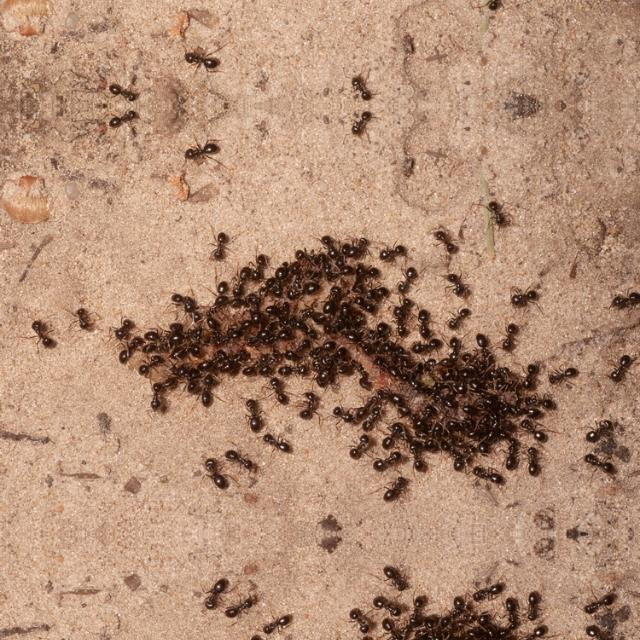Lasius: (176, 130, 236, 168), (176, 42, 236, 80), (478, 190, 526, 232), (238, 388, 276, 432), (28, 310, 64, 356), (492, 313, 532, 352), (196, 455, 232, 497), (196, 569, 232, 611), (368, 229, 412, 263), (602, 347, 638, 388), (428, 219, 464, 255), (502, 277, 548, 305), (467, 328, 501, 362), (344, 104, 376, 140), (603, 282, 639, 314), (579, 410, 615, 442), (344, 70, 376, 106), (257, 429, 299, 455), (575, 444, 617, 470), (257, 611, 299, 637), (575, 596, 617, 622), (204, 223, 236, 257), (525, 442, 555, 478), (166, 280, 202, 310), (522, 384, 558, 414), (525, 588, 555, 624), (515, 354, 543, 392), (227, 443, 259, 475), (227, 591, 259, 623), (544, 357, 574, 391), (337, 328, 371, 358), (265, 372, 293, 408), (476, 0, 526, 20), (104, 308, 136, 339), (518, 414, 552, 442), (343, 430, 369, 466), (343, 600, 369, 636), (401, 442, 432, 472), (401, 594, 432, 624), (469, 463, 507, 487), (469, 579, 507, 603), (414, 306, 442, 338), (408, 330, 444, 354), (288, 280, 324, 304), (134, 346, 162, 376), (146, 382, 174, 412), (498, 436, 526, 466), (498, 600, 526, 630), (74, 297, 96, 335), (116, 329, 142, 361), (204, 312, 230, 344), (243, 347, 265, 383), (387, 310, 415, 338), (398, 267, 424, 297), (198, 346, 228, 372), (187, 323, 211, 355), (298, 388, 320, 422), (444, 301, 474, 325), (382, 476, 412, 500), (372, 353, 402, 377), (382, 566, 412, 590), (231, 264, 253, 296), (324, 264, 356, 286), (272, 264, 292, 298), (378, 417, 404, 443), (278, 359, 306, 383), (107, 108, 145, 125), (107, 85, 145, 102), (440, 269, 466, 293), (247, 252, 273, 276), (330, 401, 350, 431), (374, 448, 398, 472), (579, 624, 615, 640), (516, 624, 552, 640), (374, 594, 398, 618), (232, 314, 254, 340), (362, 282, 390, 302), (182, 361, 200, 392), (349, 262, 379, 280), (350, 232, 372, 256), (390, 294, 416, 314), (318, 235, 338, 261), (264, 300, 290, 320), (376, 622, 404, 640), (356, 394, 376, 418), (290, 336, 310, 360), (308, 339, 337, 355), (369, 320, 386, 346), (363, 409, 382, 431), (260, 330, 298, 340), (203, 378, 217, 404), (250, 329, 270, 347), (362, 634, 382, 640)
